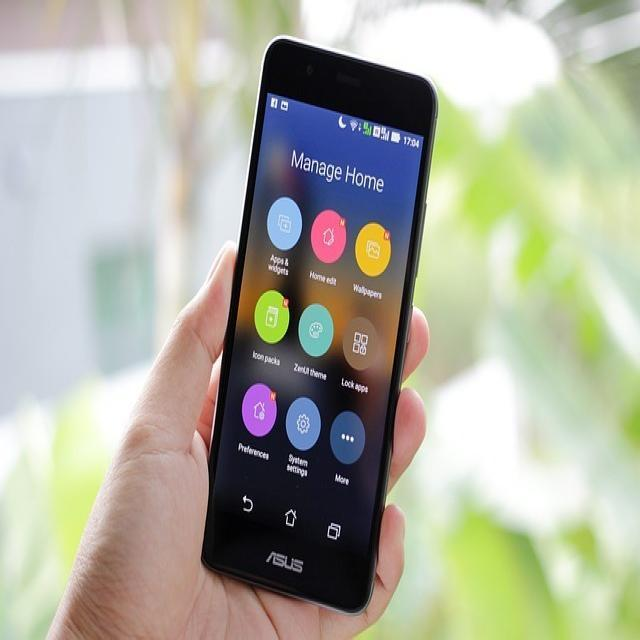Phone: (195, 34, 445, 622)
